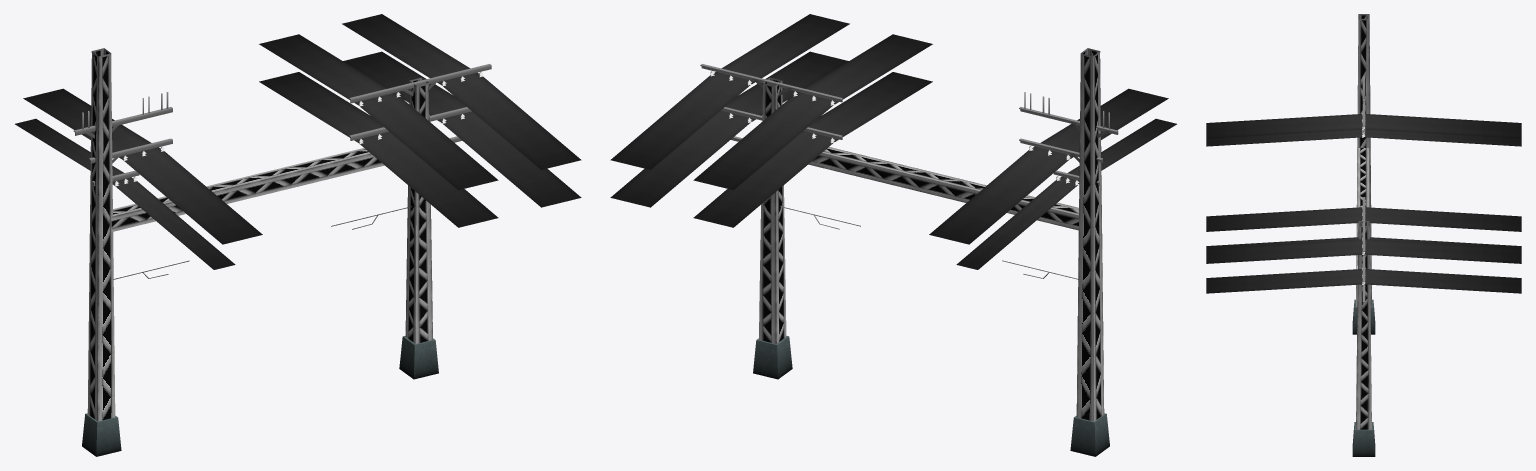
The model's file is KASENCHU_KYOTO01.glb.
3 renders of one model, left to right at view 1: azimuth 30°, elevation 25°; view 2: azimuth 150°, elevation 25°; view 3: azimuth 270°, elevation 25°, orthographic. The views are drawn at different scales.
Visible parts, largest first — view 1: obj; view 2: obj; view 3: obj.
Part boxes in pixels (bbox=[...]): obj: bbox=[15, 14, 581, 456]; obj: bbox=[610, 14, 1176, 456]; obj: bbox=[1206, 14, 1521, 456].
Size of the model in its own units: 47.64 by 43.37 by 39.61.
Materials: 5 (5 with a texture image).
